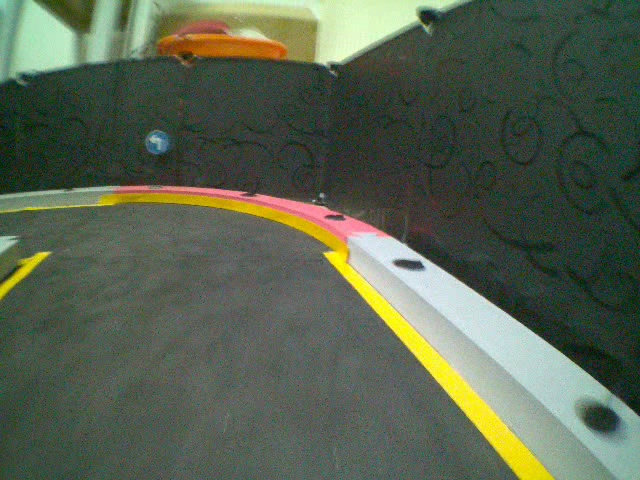turn: (145, 128, 168, 156)
